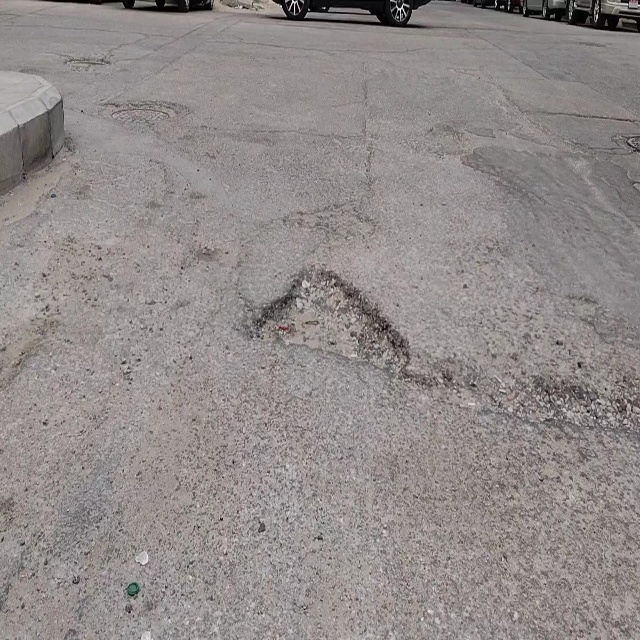pothole: (247, 264, 413, 384)
